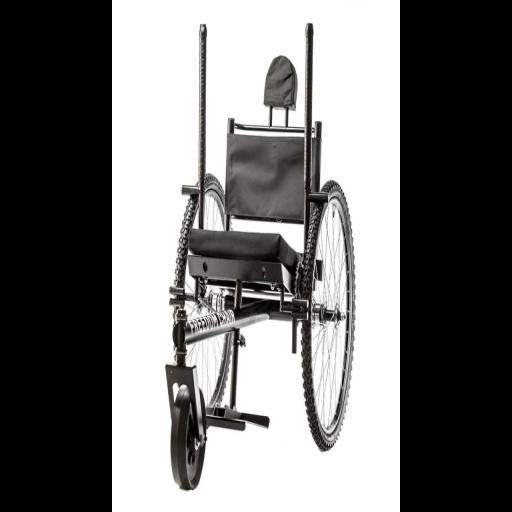cadeira_de_rodas: (209, 107, 356, 451)
